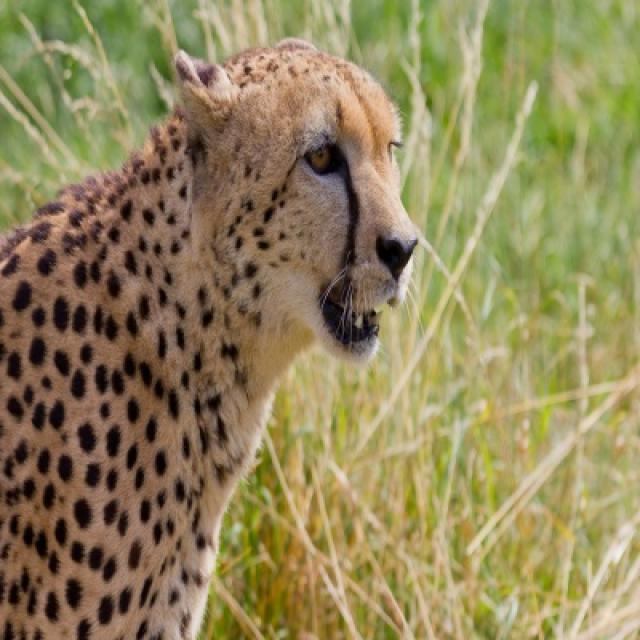Cheetah: (0, 38, 422, 638)
